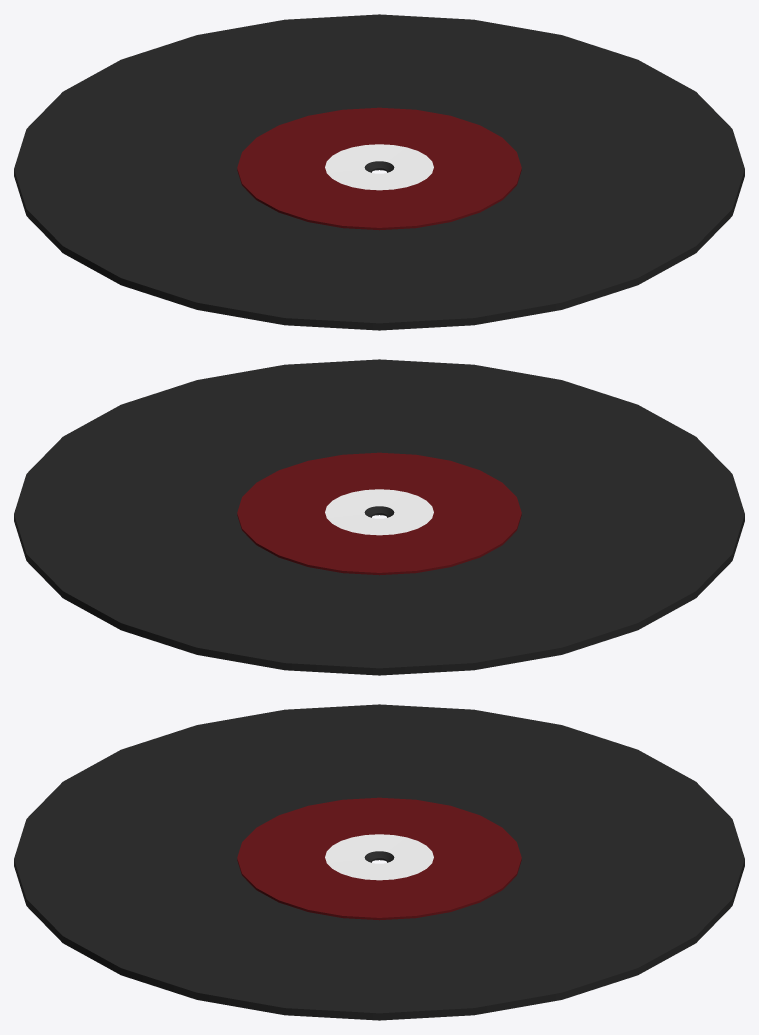
The model's file is Record.fbx.
3 views of the same model, one above another, from view 1: azimuth 30°, elevation 25°; view 2: azimuth 150°, elevation 25°; view 3: azimuth 270°, elevation 25° (orthographic).
Visible parts, largest first — view 1: pCylinder12; view 2: pCylinder12; view 3: pCylinder12.
Boxes of the visible parts, x1,y1,x2,y2 form: pCylinder12: (14, 14, 744, 330); pCylinder12: (14, 359, 744, 675); pCylinder12: (14, 704, 744, 1020).
Bounding box in the file's own units: 52.08 × 0.7755 × 52.08.
